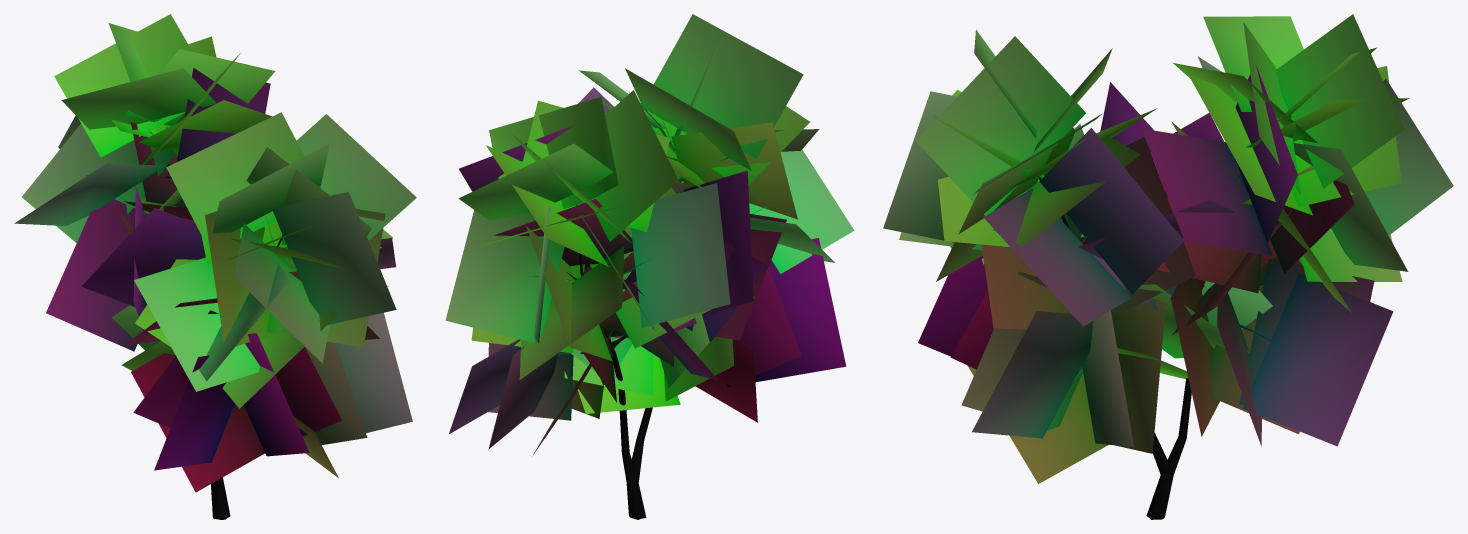
Rendered from M_P15_Tree_4.fbx.
3 views of the same model, side by side, from view 1: azimuth 30°, elevation 25°; view 2: azimuth 150°, elevation 25°; view 3: azimuth 270°, elevation 25° (orthographic). The views are drawn at different scales.
Visible parts, largest first — view 1: Tree_4; view 2: Tree_4; view 3: Tree_4.
Boxes of the visible parts, <box> form: Tree_4: <box>14,14,416,519</box>; Tree_4: <box>445,14,854,519</box>; Tree_4: <box>883,14,1453,519</box>.
Bounding box in the file's own units: 483 × 697 × 731.
